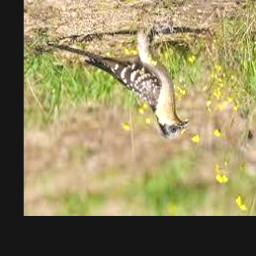Cuckoo: (48, 27, 189, 140)
